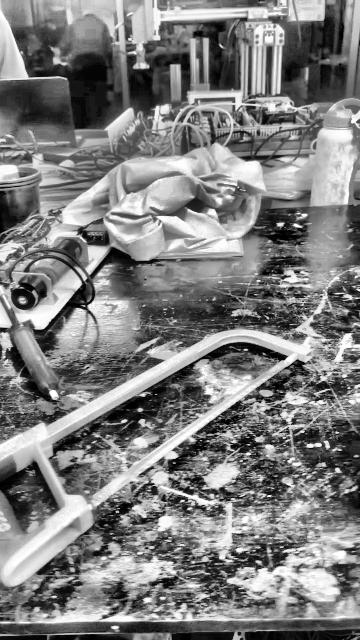pot: (1, 168, 44, 230)
